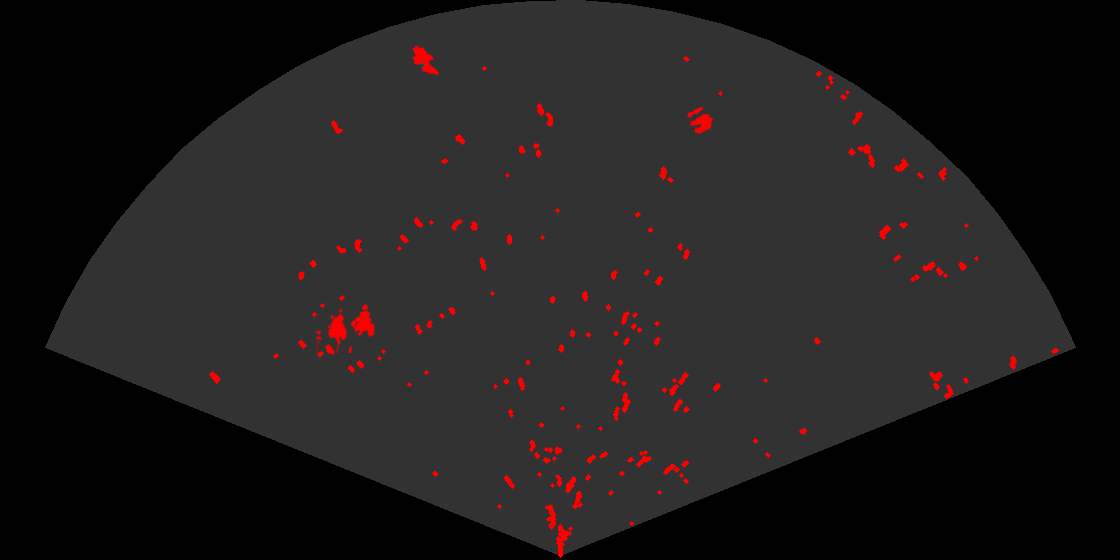AUV: (411, 44, 440, 77)
ball: (685, 105, 715, 136)
cage: (316, 307, 377, 353)
